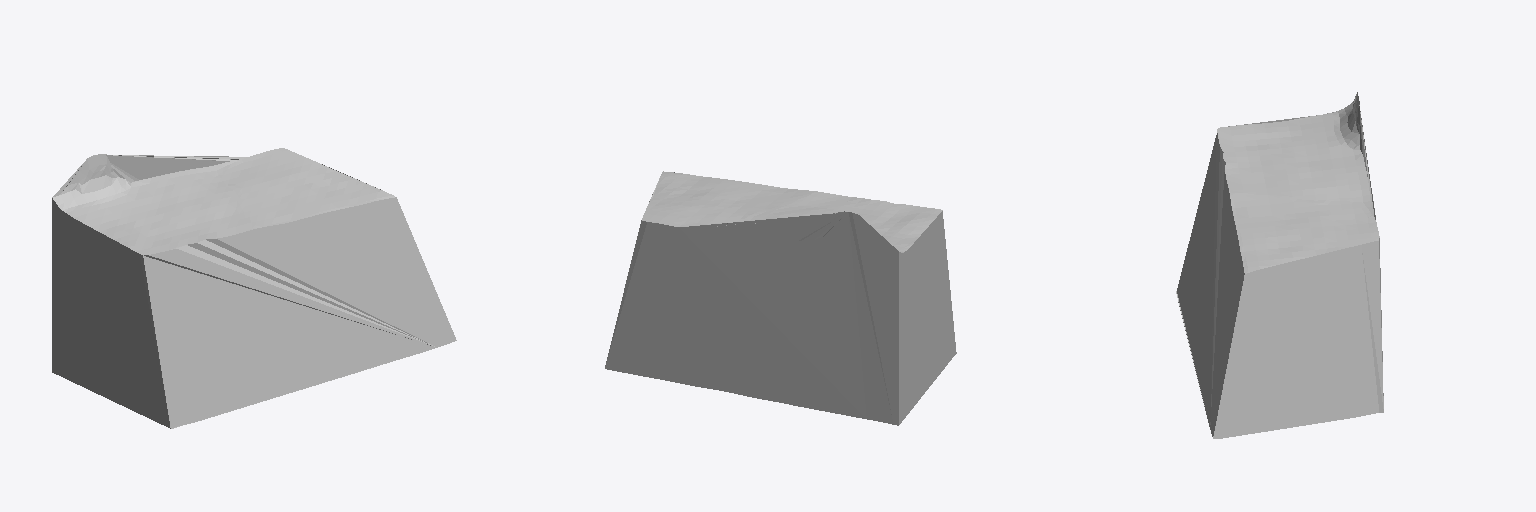
The model's file is low_cell_019.obj.
3 renders of one model, left to right at view 1: azimuth 30°, elevation 25°; view 2: azimuth 150°, elevation 25°; view 3: azimuth 270°, elevation 25°, orthographic.
Parts seen in each view (by area): view 1: low_cell.019_low_cell.018; view 2: low_cell.019_low_cell.018; view 3: low_cell.019_low_cell.018.
Part boxes in pixels (x1,y1,x2,y2): low_cell.019_low_cell.018: (52,148,456,428); low_cell.019_low_cell.018: (605,171,956,425); low_cell.019_low_cell.018: (1176,92,1383,438).
Bounding box in the file's own units: 0.6637 × 0.3871 × 0.3568.